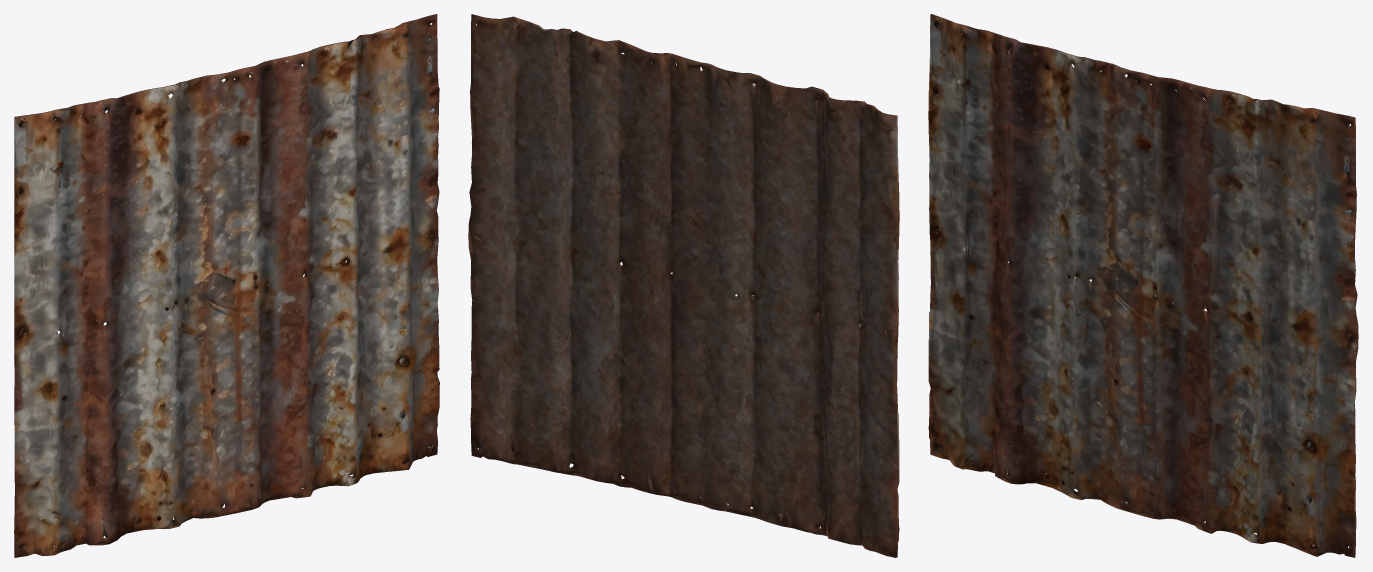
File: steel_plate.glb
3 renders of one model, left to right at view 1: azimuth 30°, elevation 25°; view 2: azimuth 150°, elevation 25°; view 3: azimuth 330°, elevation 25°, orthographic.
Visible parts, largest first — view 1: steel_plate / mesh; view 2: steel_plate / mesh; view 3: steel_plate / mesh.
Boxes of the visible parts, <box> form: steel_plate / mesh: <box>14,14,439,557</box>; steel_plate / mesh: <box>468,14,899,557</box>; steel_plate / mesh: <box>928,14,1358,557</box>.
Size of the model in its own units: 2.4 by 2.4 by 0.115.
1 material, 1 textured.
